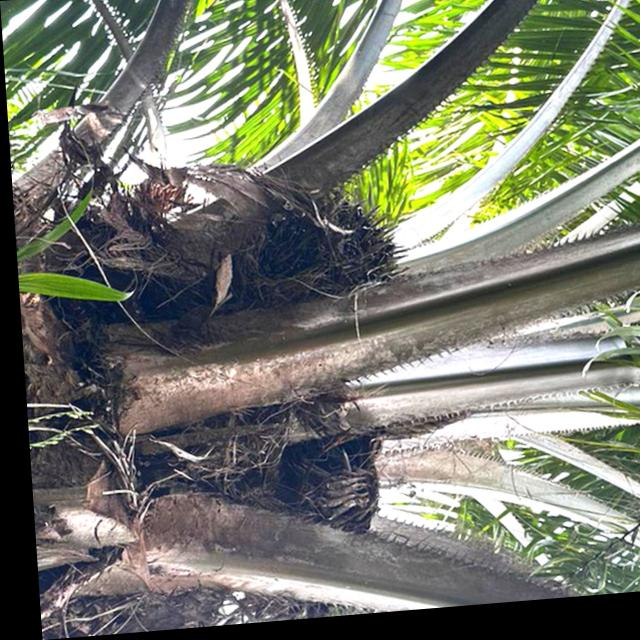ripe: (236, 190, 414, 329)
